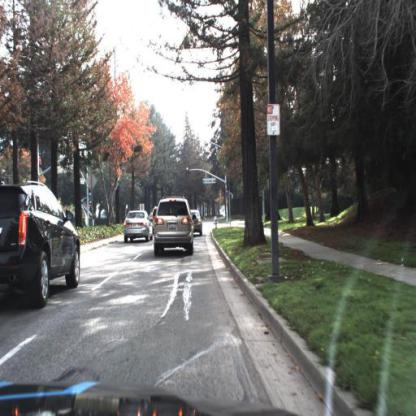car: (1, 179, 84, 308), (152, 194, 198, 257), (123, 211, 154, 243), (192, 209, 204, 237), (153, 206, 158, 227)
pedestrian: (93, 213, 97, 227)
trafficLight-Red: (185, 165, 191, 178), (186, 166, 191, 179), (226, 188, 230, 199)
